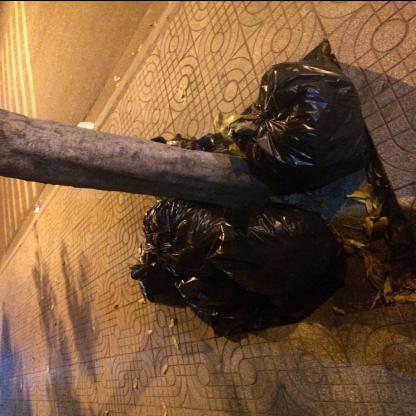plastik: (126, 196, 346, 336), (226, 59, 376, 193)
